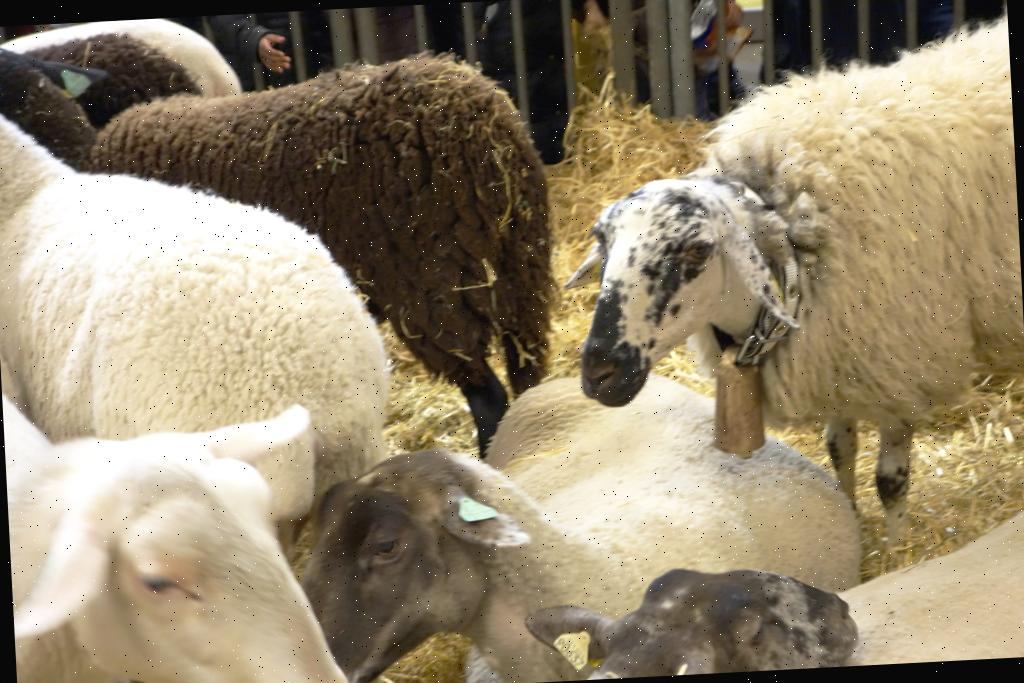Sheep: (0, 0, 575, 462), (558, 4, 1024, 526), (0, 74, 412, 515), (0, 340, 390, 683)
